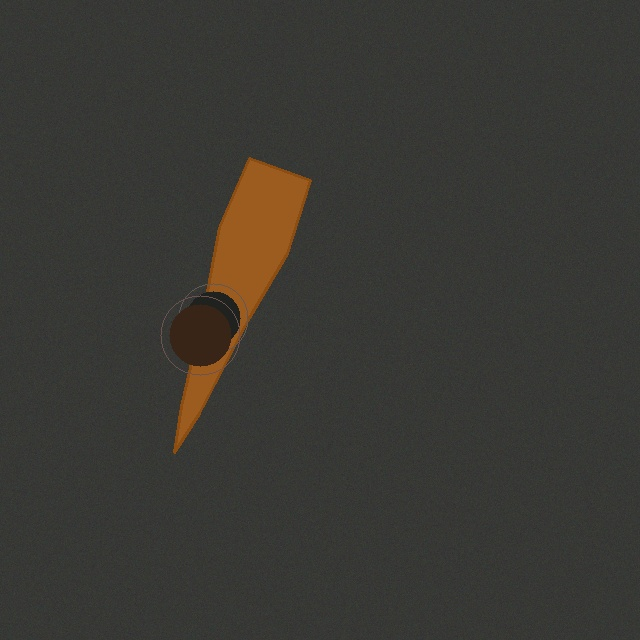Rotten_Carrot: (166, 150, 318, 460)
